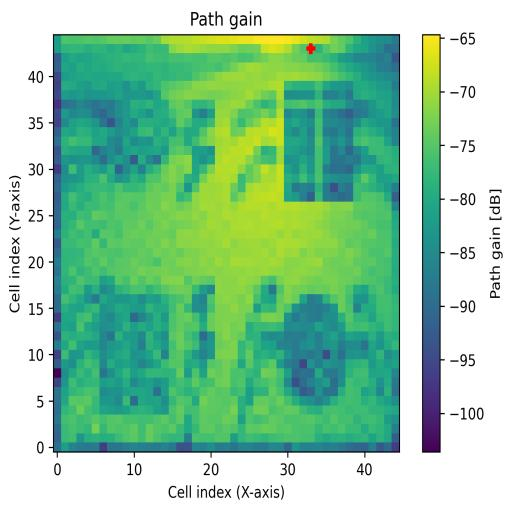Concrete: (284, 81, 354, 201)
Glass: (92, 79, 176, 183)
Metal: (261, 296, 368, 406)
Wood: (100, 294, 169, 417)
